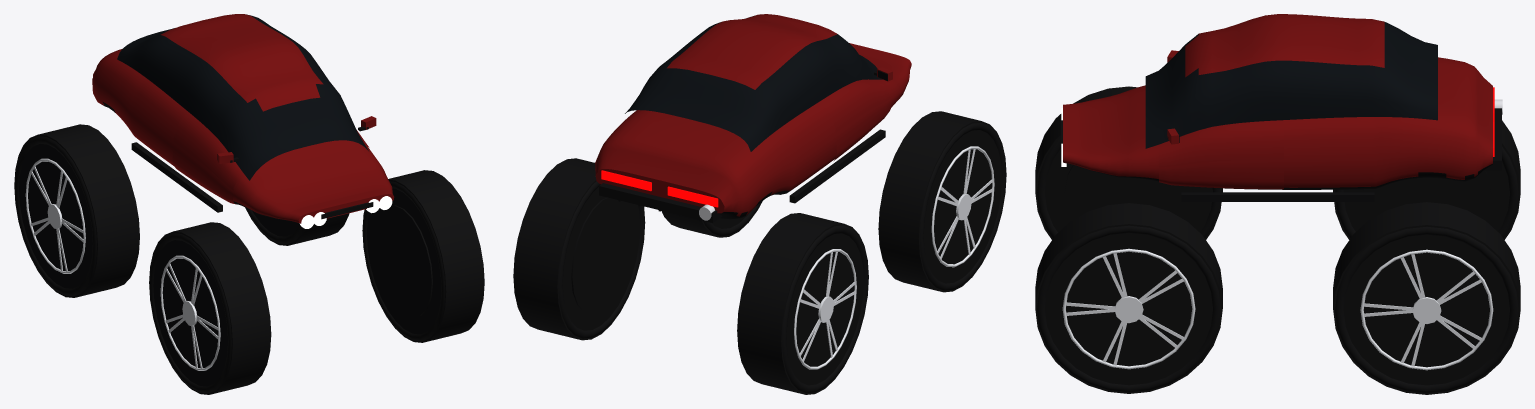
The model's file is titan.glb.
3 renders of one model, left to right at view 1: azimuth 30°, elevation 25°; view 2: azimuth 150°, elevation 25°; view 3: azimuth 270°, elevation 25°, orthographic. The views are drawn at different scales.
Visible parts, largest first — view 1: Cabin, Tire, Tire4, Tire2, Body, Panel2, Rim2, Rim4, Tire3, Details, HeadLights; view 2: Cabin, Body, Tire3, Tire4, Tire2, Details, Panel2, Rim2, Rim4, Tire, TailLights; view 3: Cabin, Tire3, Tire, Body, Tire2, Tire4, Panel, Rim, Rim3, Details.
Part boxes in pixels (x1=…): Cabin: x1=117, y1=14, x2=368, y2=180; Tire: x1=362, y1=170, x2=484, y2=342; Tire4: x1=14, y1=124, x2=139, y2=297; Tire2: x1=149, y1=222, x2=271, y2=394; Body: x1=92, y1=49, x2=394, y2=223; Panel2: x1=172, y1=112, x2=243, y2=204; Rim2: x1=160, y1=255, x2=220, y2=370; Rim4: x1=25, y1=158, x2=85, y2=273; Tire3: x1=245, y1=207, x2=349, y2=245; Details: x1=131, y1=116, x2=376, y2=219; HeadLights: x1=299, y1=196, x2=392, y2=228; Cabin: x1=625, y1=14, x2=882, y2=151; Body: x1=595, y1=43, x2=911, y2=219; Tire3: x1=513, y1=158, x2=645, y2=340; Tire4: x1=737, y1=213, x2=868, y2=394; Tire2: x1=878, y1=111, x2=1006, y2=292; Details: x1=599, y1=67, x2=892, y2=222; Panel2: x1=820, y1=79, x2=890, y2=160; Rim2: x1=931, y1=146, x2=994, y2=267; Rim4: x1=794, y1=249, x2=856, y2=369; Tire: x1=661, y1=201, x2=762, y2=237; TailLights: x1=601, y1=170, x2=718, y2=207; Cabin: x1=1145, y1=14, x2=1437, y2=148; Tire3: x1=1333, y1=202, x2=1520, y2=394; Tire: x1=1035, y1=203, x2=1222, y2=393; Body: x1=1063, y1=57, x2=1492, y2=189; Tire2: x1=1035, y1=86, x2=1222, y2=239; Tire4: x1=1333, y1=120, x2=1520, y2=239; Panel: x1=1159, y1=120, x2=1283, y2=189; Rim: x1=1062, y1=248, x2=1195, y2=369; Rim3: x1=1360, y1=249, x2=1493, y2=370; Details: x1=1060, y1=50, x2=1502, y2=201.
Size of the model in its own units: 3.04 by 2.94 by 4.4.
